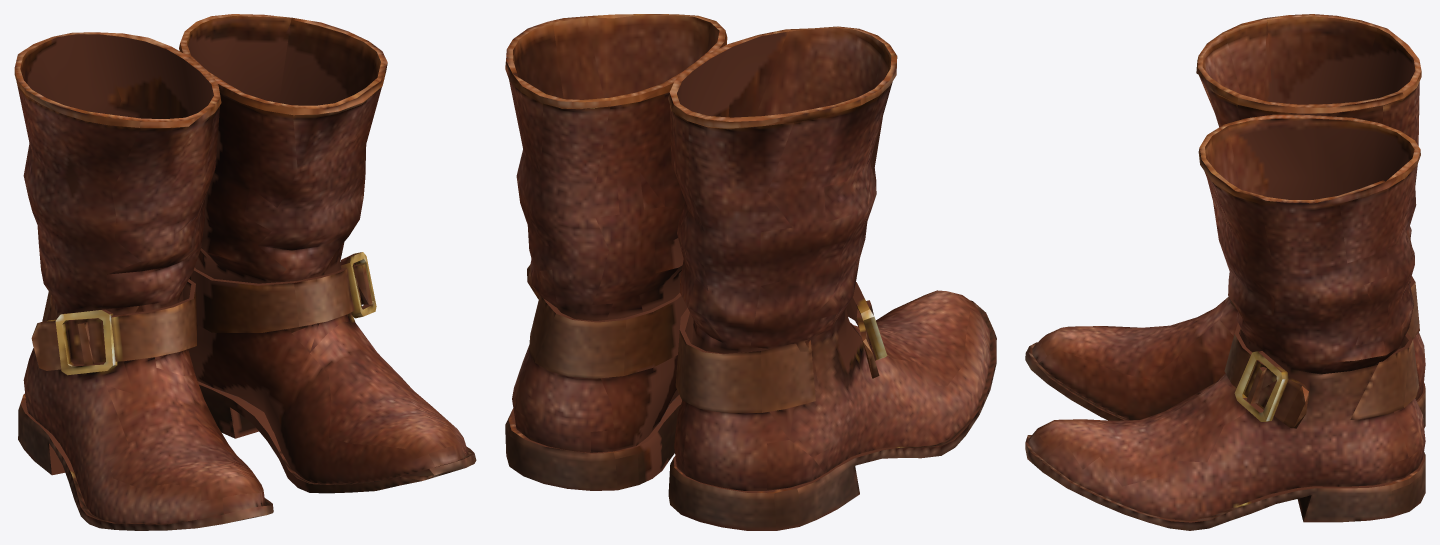
File: item_item132.glb
3 renders of one model, left to right at view 1: azimuth 30°, elevation 25°; view 2: azimuth 150°, elevation 25°; view 3: azimuth 270°, elevation 25°, orthographic. The views are drawn at different scales.
Parts seen in each view (by area): view 1: equipment_item132; view 2: equipment_item132; view 3: equipment_item132.
Part boxes in pixels (x1=…): equipment_item132: x1=14, y1=14, x2=476, y2=530; equipment_item132: x1=505, y1=14, x2=996, y2=530; equipment_item132: x1=1025, y1=14, x2=1425, y2=530.
Bounding box in the file's own units: 0.9413 × 1 × 1.
1 material, 1 textured.
